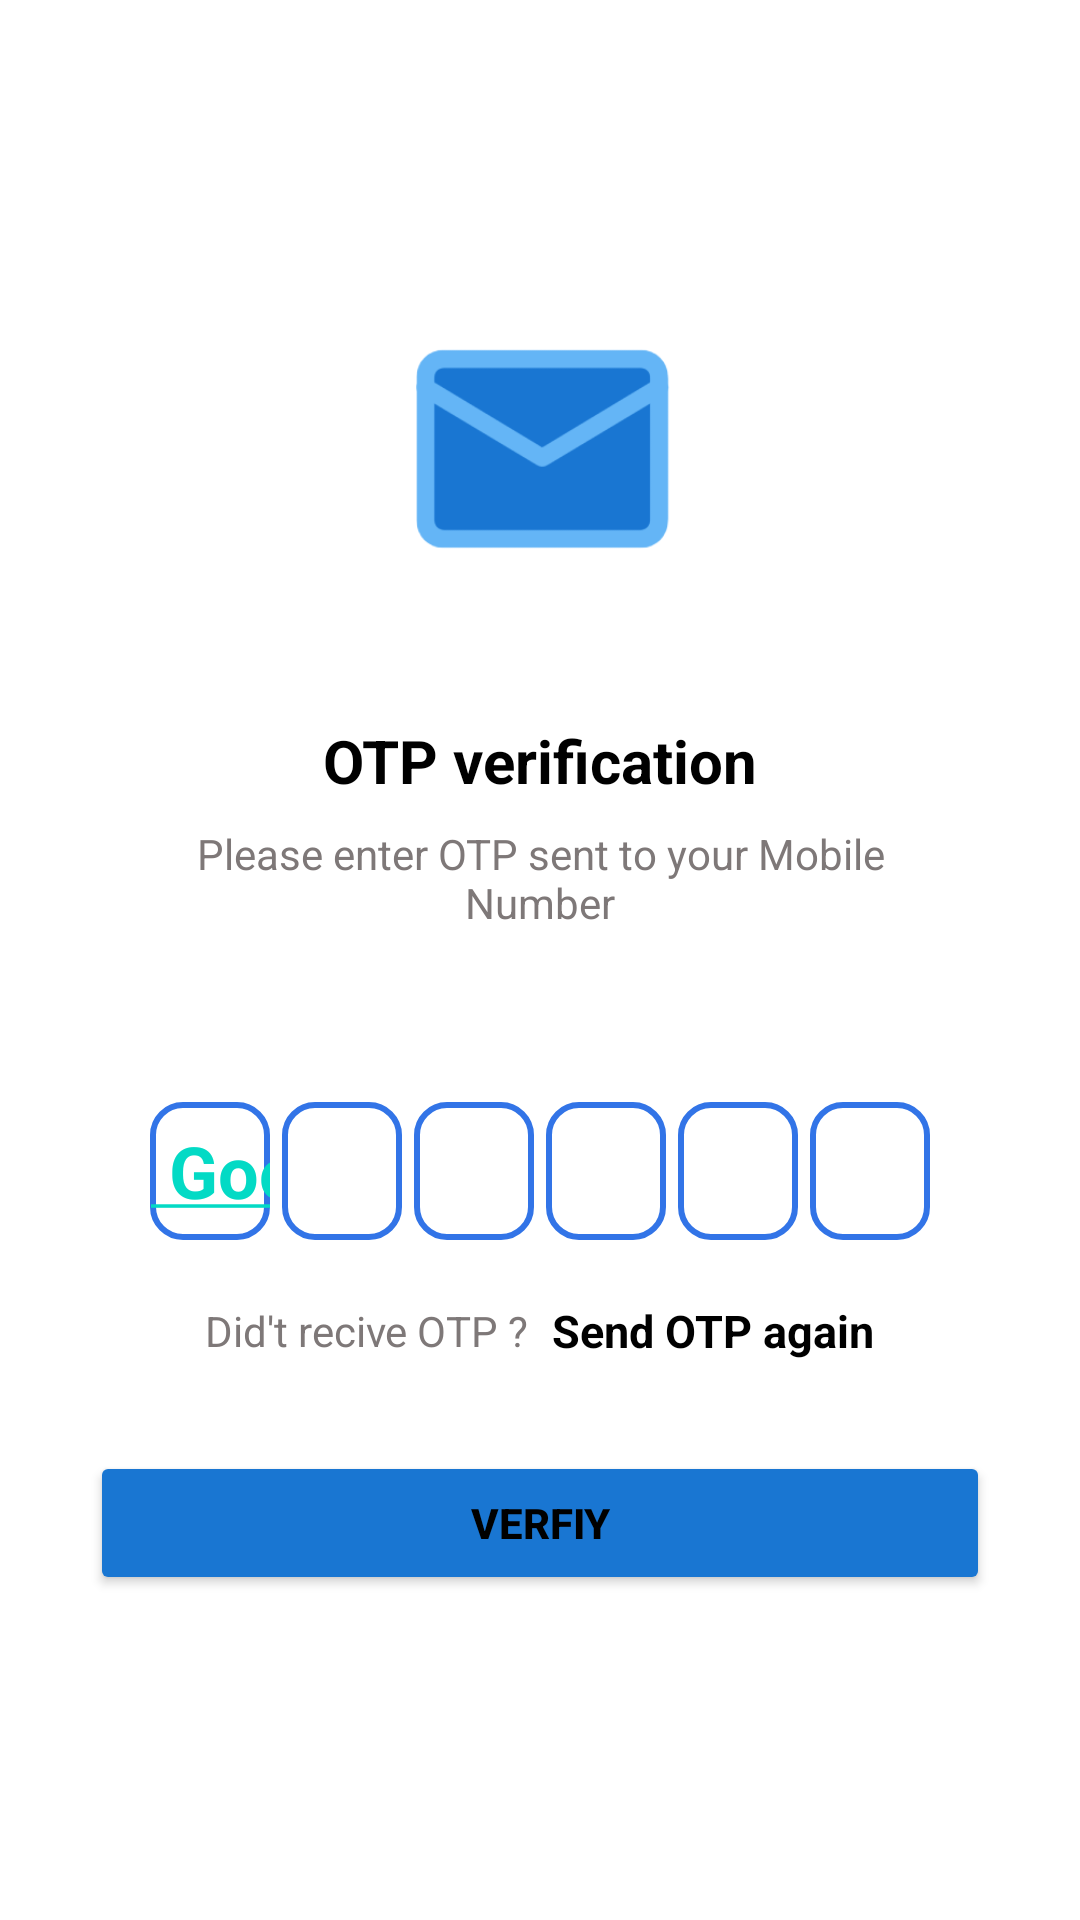

Where icons sit on this 1080px×1920px app screen, as (x1, y1, x2, y2):
recived: (416, 350, 669, 548)
